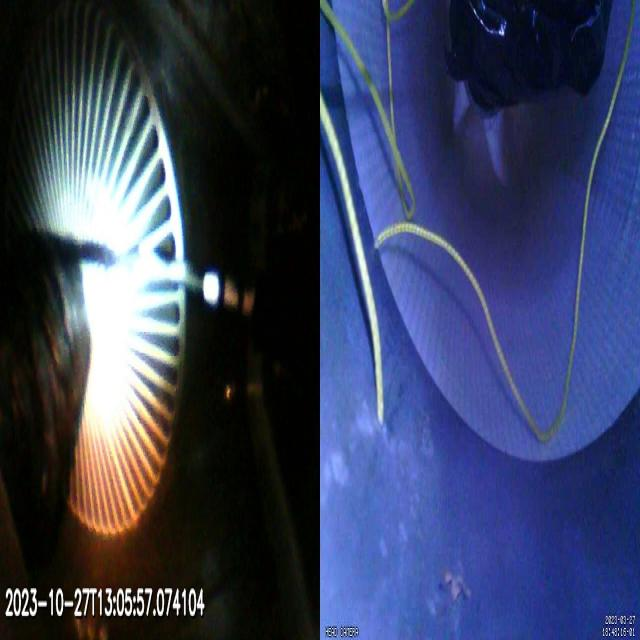white-dots: (202, 273, 255, 315)
